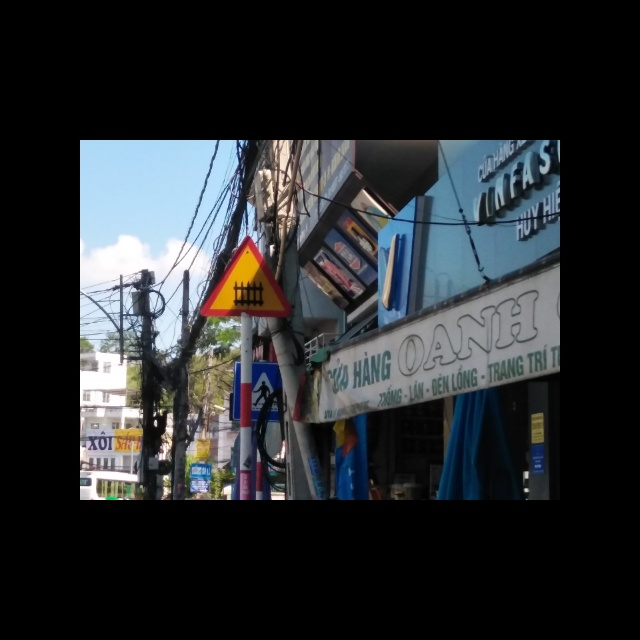Giao nhau với đường sắt có rào chắn: (198, 234, 295, 318)
